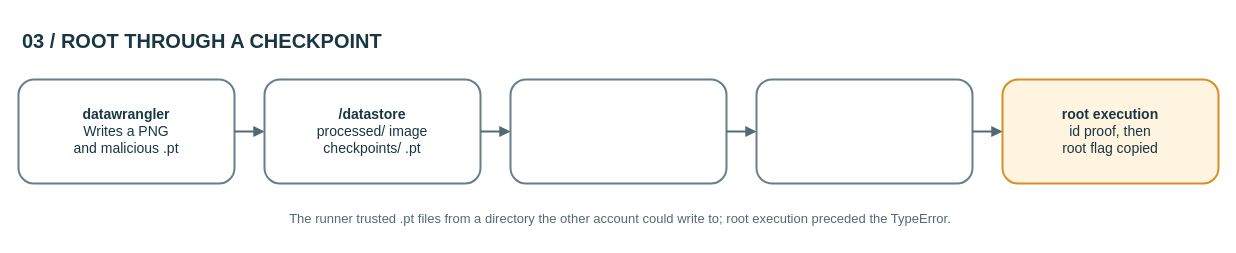
Some shapes in this 1236 by 253 pixel diagram are drawn without their labels. The shapes that lost their labels are listed below. From the top down, each one's centre as x and y in pixels, then its label:
[618,131]: developer sudo Runs the exact allowed trainer
[864,131]: MONAI loader torch.load(..., weights_only=False)
